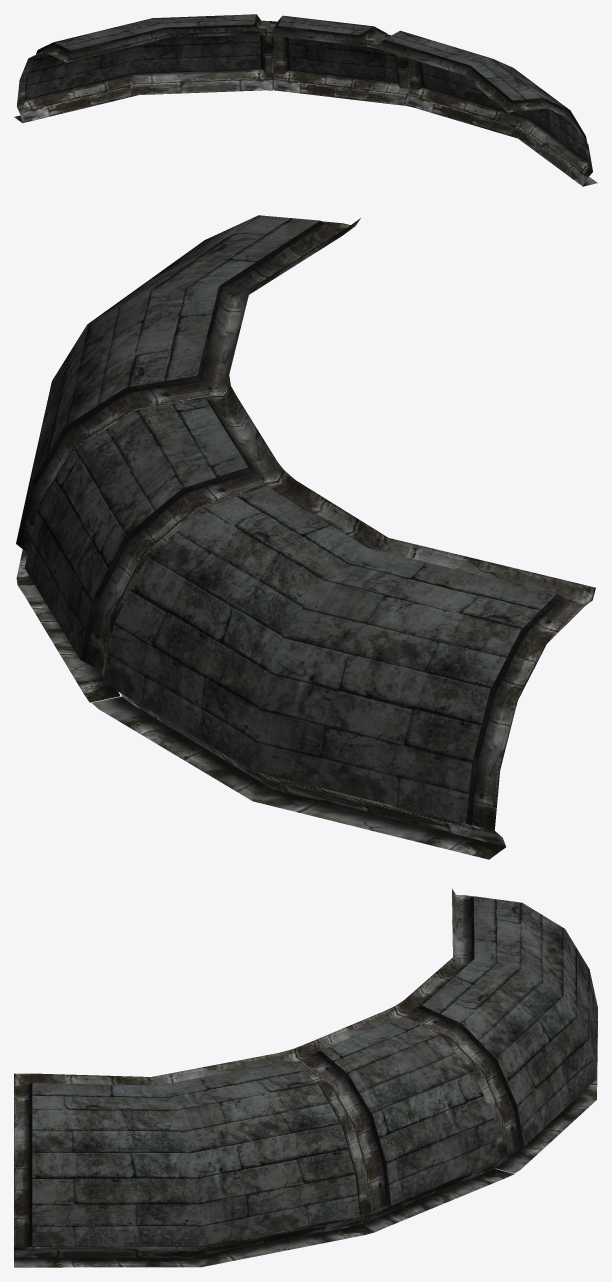
The model's file is ceiling_corner_concave_round_stairs_alt.dae.
The picture shows the model from 3 angles, top to bottom: view 1: azimuth 30°, elevation 25°; view 2: azimuth 150°, elevation 25°; view 3: azimuth 270°, elevation 25°; orthographic projection. The views are drawn at different scales.
Parts seen in each view (by area): view 1: polySurface116; view 2: polySurface116; view 3: polySurface116.
Part boxes in pixels (x1=…): polySurface116: x1=14, y1=14, x2=597, y2=186; polySurface116: x1=16, y1=215, x2=595, y2=859; polySurface116: x1=14, y1=889, x2=597, y2=1267.
Bounding box in the file's own units: 8 × 2 × 8.
